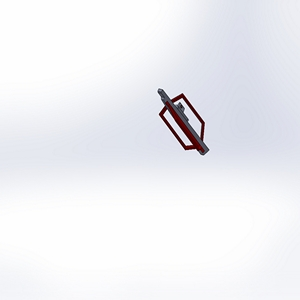submarine: (139, 74, 221, 176)
